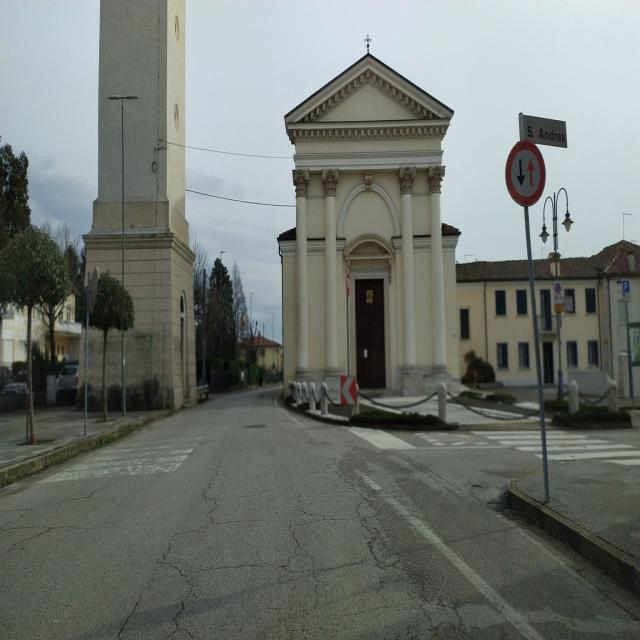car: (54, 361, 83, 405), (196, 377, 210, 403)
